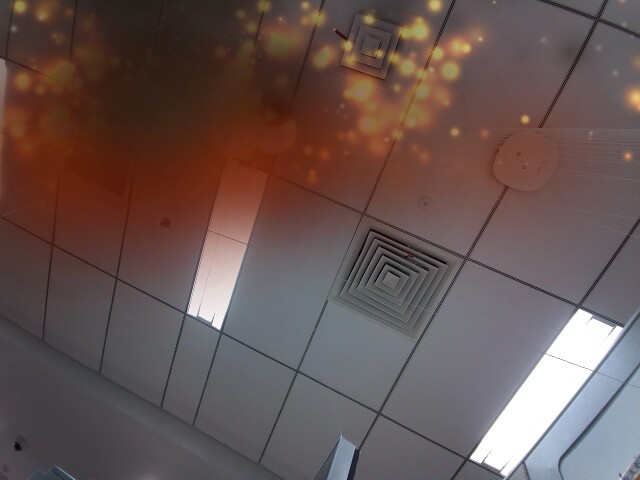fire: (261, 114, 299, 157)
